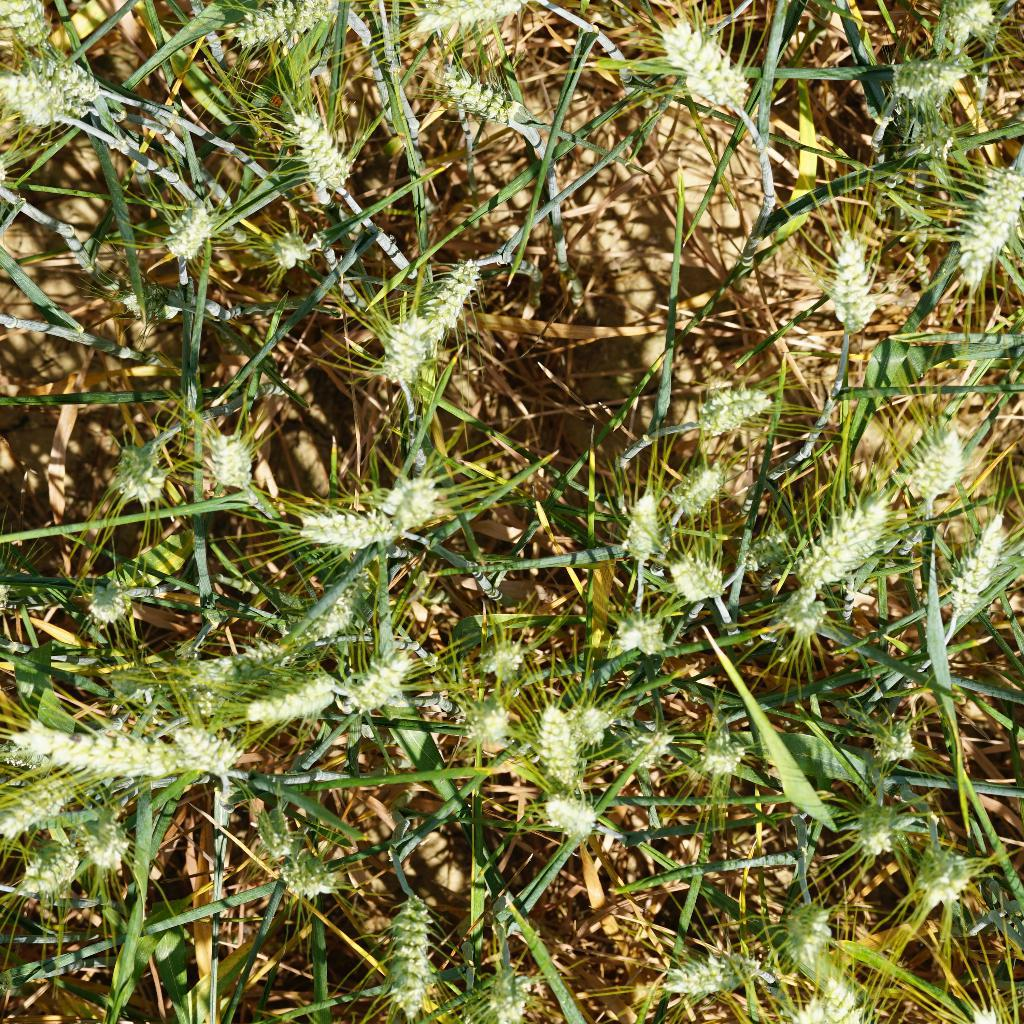0-0: (929, 145, 1024, 287), (14, 707, 189, 784), (653, 8, 758, 126), (789, 494, 896, 595), (423, 60, 533, 157), (271, 105, 369, 208), (378, 879, 441, 1024), (927, 509, 1002, 616), (815, 224, 882, 333), (645, 944, 772, 1001), (403, 0, 544, 51), (287, 490, 391, 556), (169, 637, 296, 691), (762, 893, 849, 971), (526, 783, 619, 855), (149, 194, 225, 276), (686, 374, 773, 445), (0, 80, 101, 141), (844, 791, 912, 878), (406, 251, 484, 326), (250, 666, 335, 733), (369, 309, 433, 395), (376, 470, 466, 530), (903, 428, 970, 507), (900, 832, 974, 903), (676, 544, 746, 619), (514, 697, 578, 778), (225, 0, 332, 47), (346, 649, 421, 714), (100, 440, 176, 503), (613, 485, 666, 572), (12, 840, 85, 901), (892, 44, 975, 97), (456, 686, 520, 752), (0, 786, 83, 836), (485, 959, 548, 1024), (669, 467, 731, 533), (273, 843, 339, 904), (172, 724, 243, 780), (202, 429, 261, 496), (470, 621, 541, 676), (608, 606, 676, 662), (613, 717, 684, 768), (691, 735, 757, 788), (819, 978, 894, 1024), (75, 817, 134, 875), (734, 521, 798, 574), (930, 0, 1000, 47), (899, 111, 961, 162), (769, 591, 829, 643), (0, 0, 55, 53), (298, 586, 355, 636), (869, 716, 919, 772), (81, 576, 133, 627), (257, 223, 321, 264), (568, 697, 615, 750), (246, 798, 291, 849), (960, 989, 1024, 1024), (36, 49, 101, 83), (759, 1000, 833, 1024)
